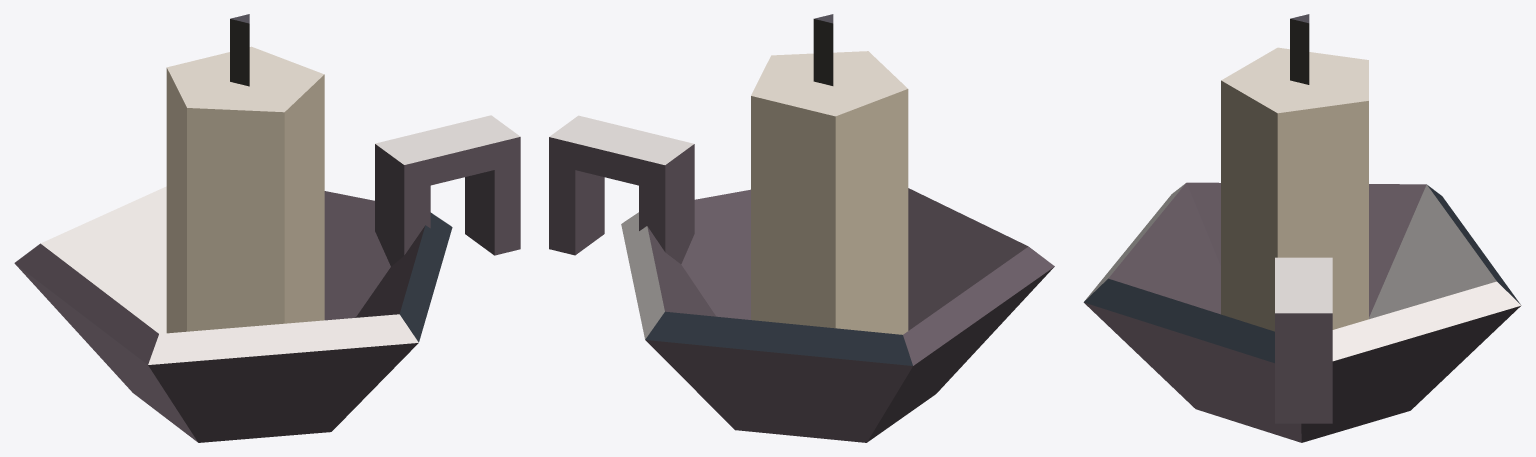
Rendered from TB_D_Prop_Candle_D.FBX.
The picture shows the model from 3 angles, left to right: view 1: azimuth 30°, elevation 25°; view 2: azimuth 150°, elevation 25°; view 3: azimuth 270°, elevation 25°; orthographic projection.
Parts seen in each view (by area): view 1: TB_D_Prop_Candle_D; view 2: TB_D_Prop_Candle_D; view 3: TB_D_Prop_Candle_D.
Part boxes in pixels (x1,y1,x2,y2): TB_D_Prop_Candle_D: (14, 14, 520, 442); TB_D_Prop_Candle_D: (549, 14, 1054, 442); TB_D_Prop_Candle_D: (1083, 14, 1521, 442).
Bounding box in the file's own units: 0.5589 × 0.479 × 0.5081.
